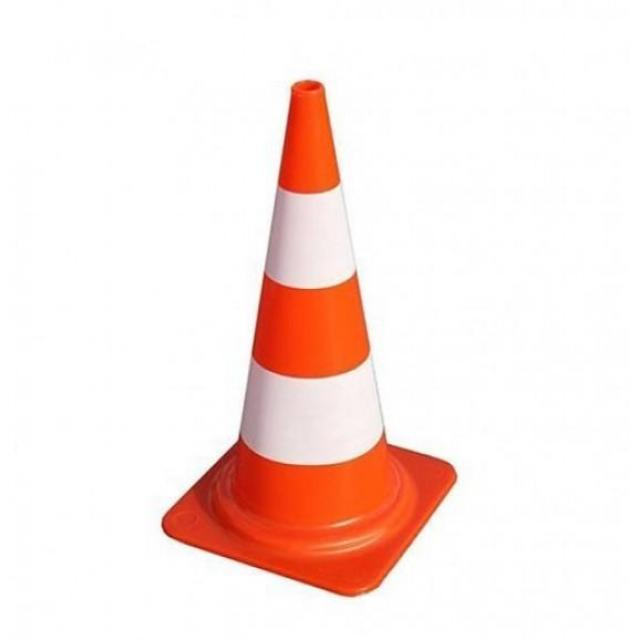cone: (188, 82, 422, 577)
